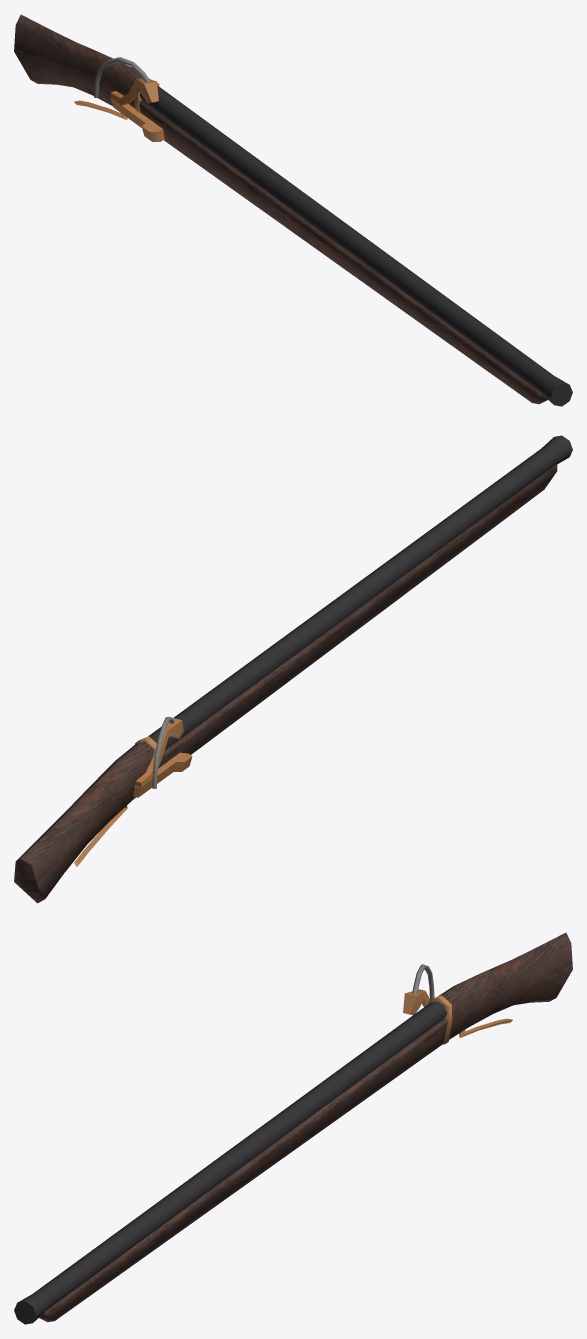
The model's file is 1202土制火枪.FBX.
3 views of the same model, one above another, from view 1: azimuth 30°, elevation 25°; view 2: azimuth 150°, elevation 25°; view 3: azimuth 330°, elevation 25° (orthographic).
Parts seen in each view (by area): view 1: 1202_HomemadeGun; view 2: 1202_HomemadeGun; view 3: 1202_HomemadeGun.
Part boxes in pixels (<box>): 1202_HomemadeGun: <box>14,14,572,406</box>; 1202_HomemadeGun: <box>14,435,572,903</box>; 1202_HomemadeGun: <box>14,932,572,1324</box>.
Bounding box in the file's own units: 5.66 × 13.43 × 121.
Materials: 1 (1 with a texture image).
